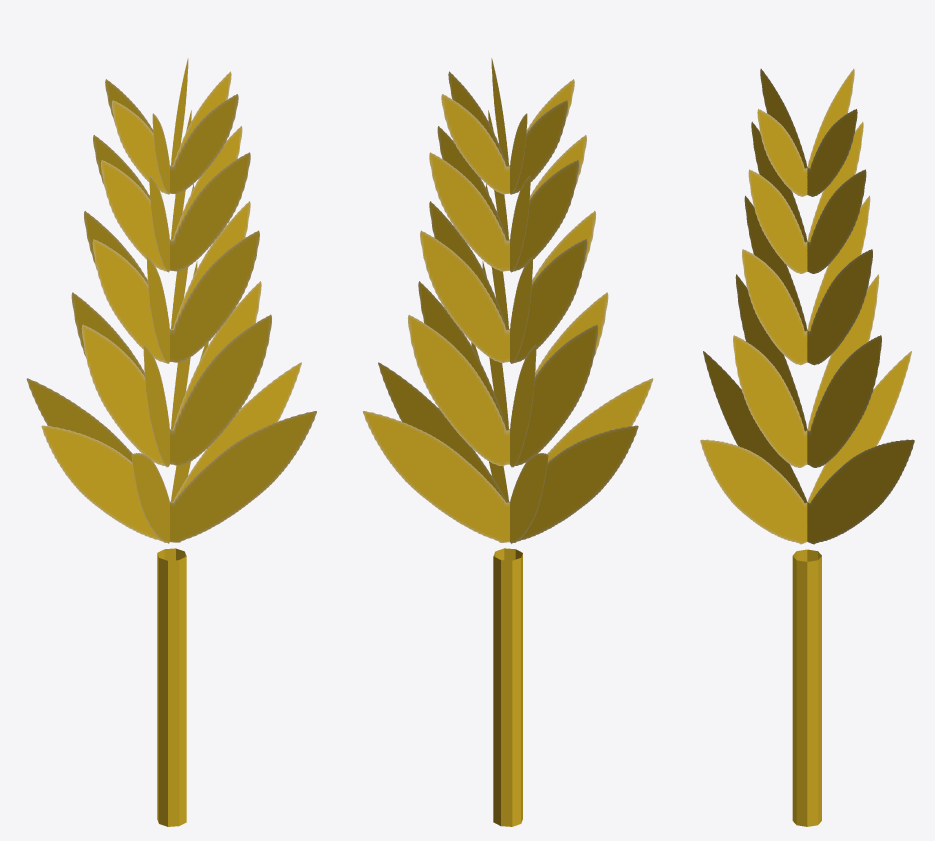
File: Flowers_n03_11.fbx
3 views of the same model, side by side, from view 1: azimuth 30°, elevation 25°; view 2: azimuth 150°, elevation 25°; view 3: azimuth 270°, elevation 25° (orthographic).
Visible parts, largest first — view 1: polySurface545; view 2: polySurface545; view 3: polySurface545.
Boxes of the visible parts, x1=… form: polySurface545: x1=26, y1=58, x2=316, y2=826; polySurface545: x1=363, y1=58, x2=653, y2=826; polySurface545: x1=700, y1=68, x2=914, y2=826.
Size of the model in its own units: 18.03 by 47.93 by 12.75.
1 material, 1 textured.
